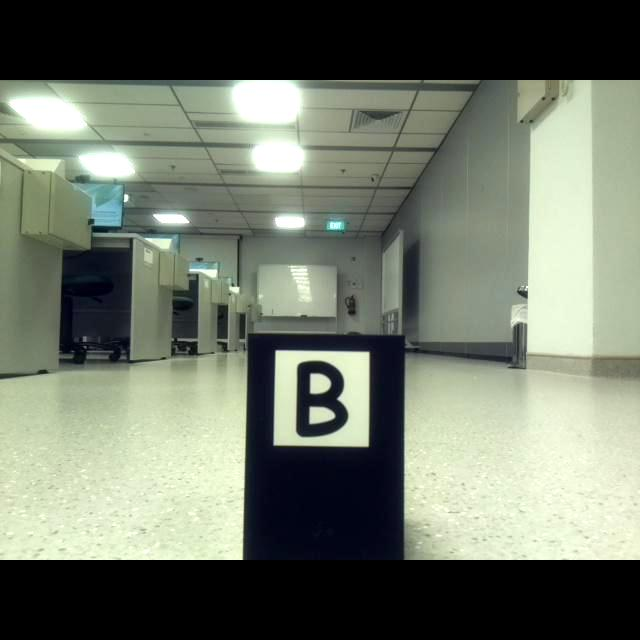B: (296, 361, 349, 438)
